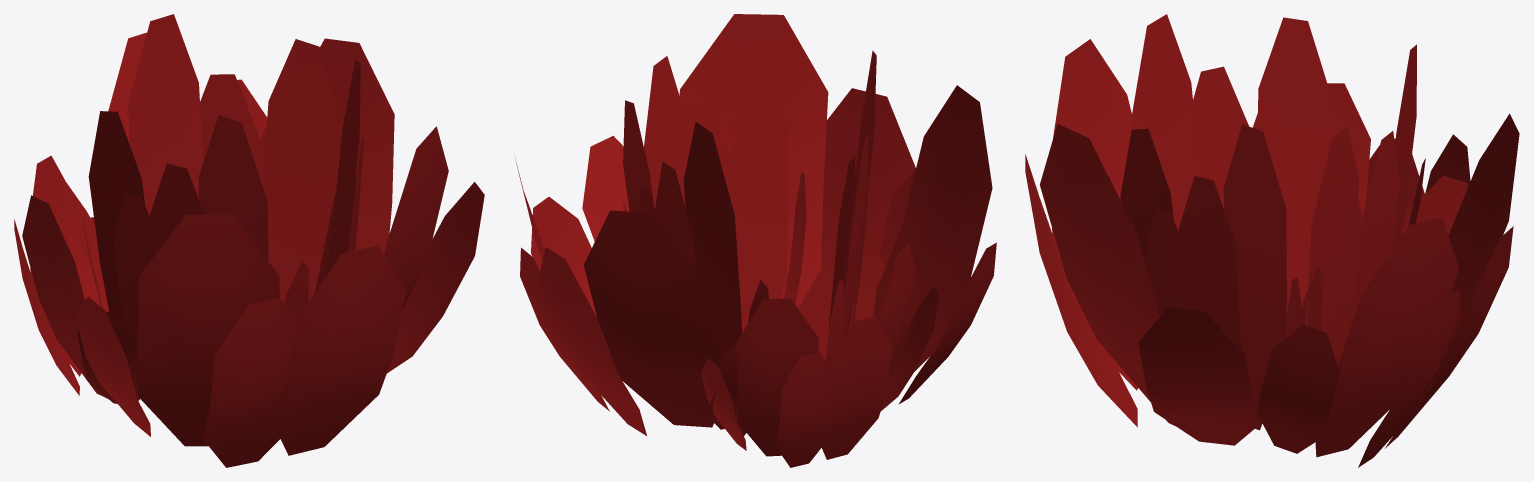
File: grass02.fbx
3 renders of one model, left to right at view 1: azimuth 30°, elevation 25°; view 2: azimuth 150°, elevation 25°; view 3: azimuth 270°, elevation 25°, orthographic. The views are drawn at different scales.
Visible parts, largest first — view 1: grassPile.011; view 2: grassPile.011; view 3: grassPile.011.
Boxes of the visible parts, left/top/right/bottom form: grassPile.011: left=14, top=14, right=484, bottom=467; grassPile.011: left=514, top=14, right=996, bottom=467; grassPile.011: left=1025, top=14, right=1519, bottom=467.
Bounding box in the file's own units: 45.46 × 37.94 × 46.4.
